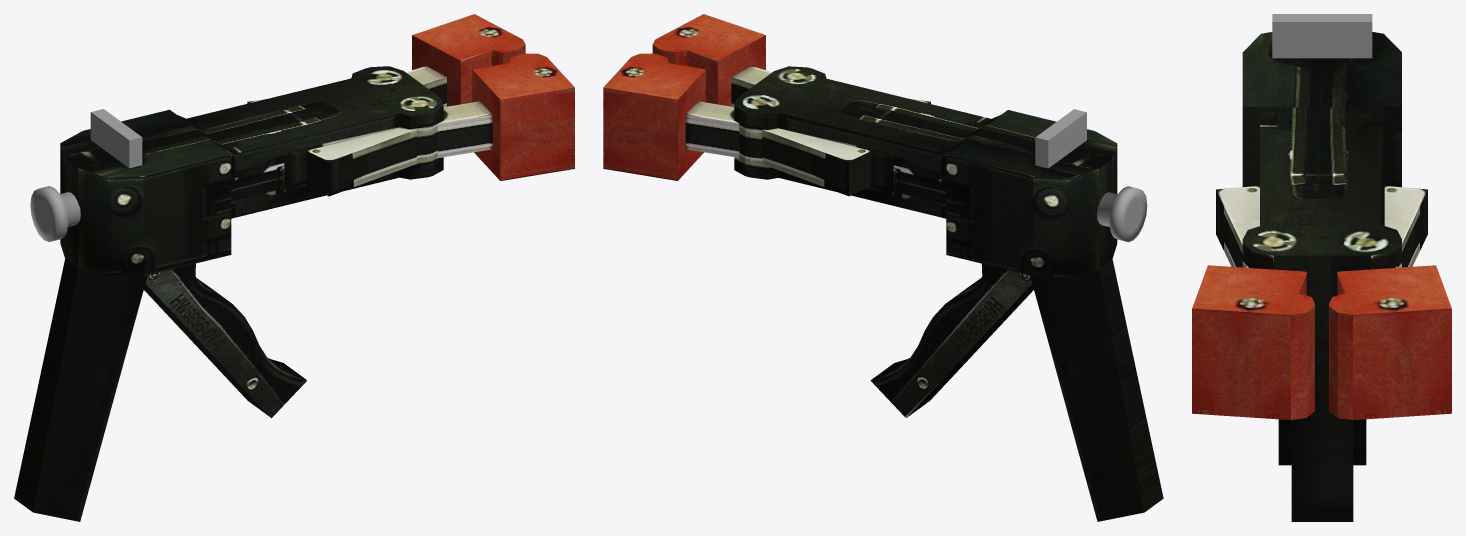
File: crimp gun.fbx
3 views of the same model, side by side, from view 1: azimuth 30°, elevation 25°; view 2: azimuth 150°, elevation 25°; view 3: azimuth 270°, elevation 25° (orthographic). The views are drawn at different scales.
Visible parts, largest first — view 1: Cube, Cube.002, Cube.003, Cube.001, Cube.004, Cylinder, Cube.005; view 2: Cube, Cube.002, Cube.004, Cube.001, Cube.003, Cylinder, Cube.005; view 3: Cube, Cube.003, Cube.004, Cube.001, Cube.005, Cube.002.
Boxes of the visible parts, x1,y1,x2,y2 form: Cube: (60,66,443,277); Cube.002: (14,259,147,521); Cube.003: (306,53,574,196); Cube.001: (144,263,306,418); Cube.004: (247,14,525,106); Cylinder: (30,186,80,241); Cube.005: (90,109,142,168); Cube: (734,66,1117,278); Cube.002: (1030,259,1163,521); Cube.004: (603,53,871,196); Cube.001: (870,263,1033,417); Cube.003: (652,14,930,106); Cylinder: (1097,186,1147,242); Cube.005: (1035,109,1086,168); Cube: (1242,32,1401,338); Cube.003: (1192,186,1314,419); Cube.004: (1329,186,1451,419); Cube.001: (1291,338,1353,521); Cube.005: (1272,14,1372,58); Cube.002: (1278,419,1366,465).
Bounding box in the file's own units: 434 × 302 × 148.
